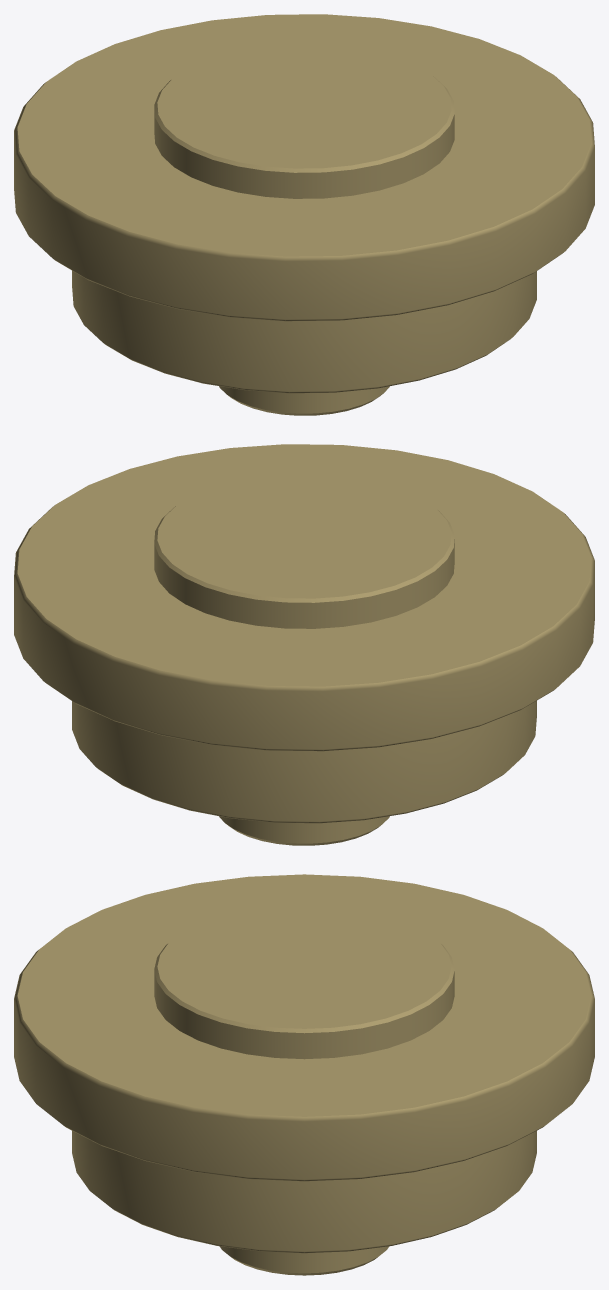
File: SM_Pie1.fbx
3 views of the same model, one above another, from view 1: azimuth 30°, elevation 25°; view 2: azimuth 150°, elevation 25°; view 3: azimuth 270°, elevation 25° (orthographic).
Parts seen in each view (by area): view 1: SM_PieTop; view 2: SM_PieTop; view 3: SM_PieTop.
Boxes of the visible parts, left/top/right/bottom form: SM_PieTop: left=14, top=14, right=594, bottom=415; SM_PieTop: left=14, top=444, right=594, bottom=845; SM_PieTop: left=14, top=874, right=594, bottom=1275.
Size of the model in its own units: 0.6088 by 0.3157 by 0.6088.
